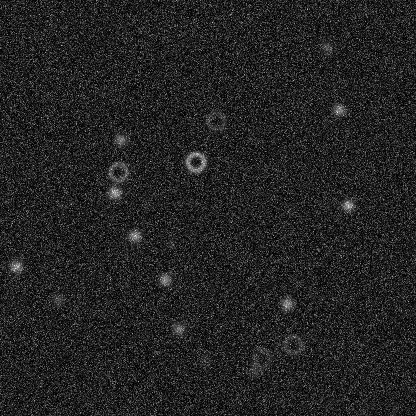Ring: (203, 108, 227, 132), (281, 332, 305, 356), (183, 149, 207, 173), (106, 160, 130, 184), (250, 345, 274, 369)
Spot: (106, 184, 122, 200), (112, 131, 128, 147), (8, 258, 24, 274), (245, 362, 261, 378), (157, 271, 173, 287), (162, 233, 178, 249), (318, 39, 334, 55), (170, 320, 186, 336), (126, 227, 142, 243), (339, 197, 355, 213), (196, 350, 212, 366), (279, 295, 295, 311), (49, 291, 65, 307), (330, 102, 346, 118)
